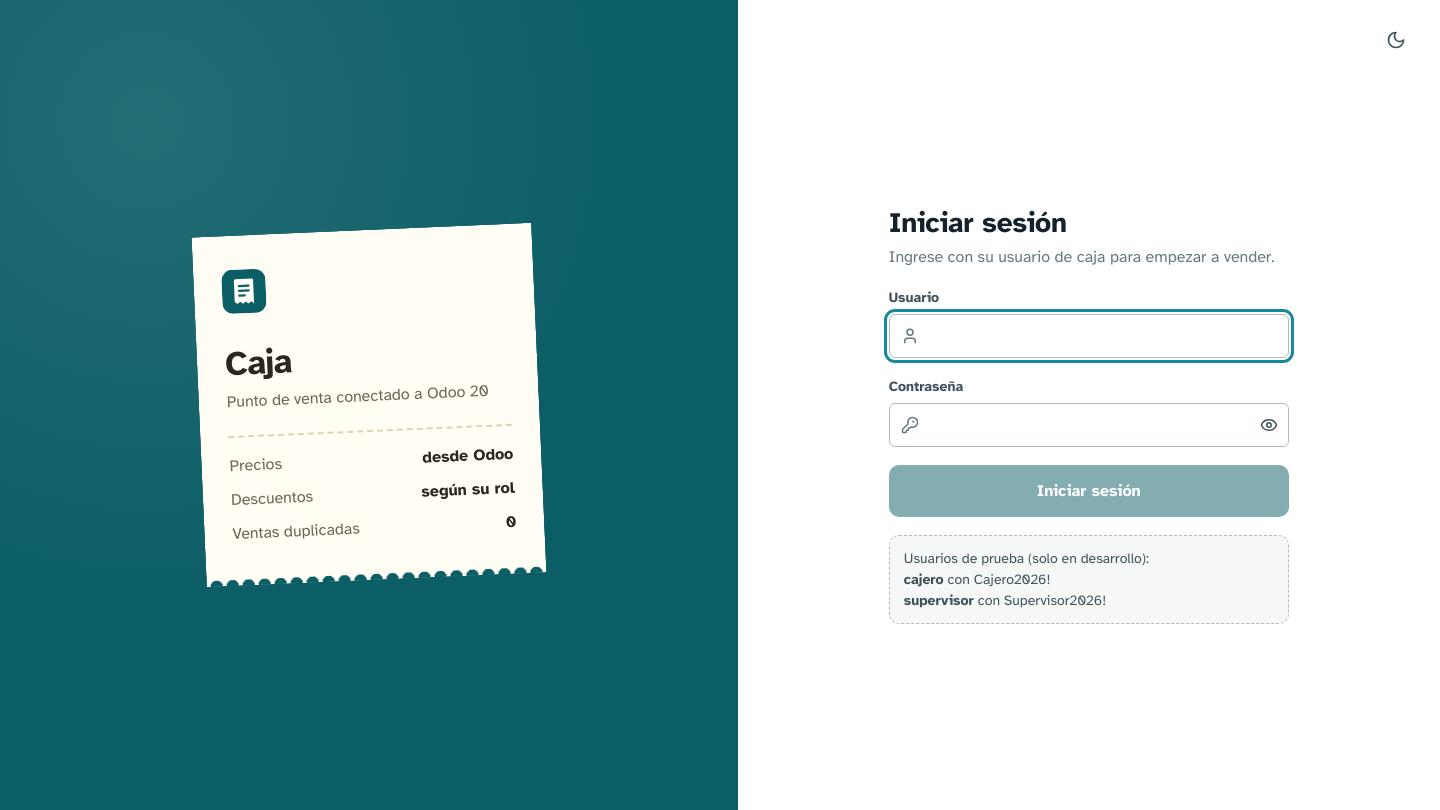
it: Inicio de sesión (P08) › si la API .NET no responde, muestra un error comprensible
In the field labelled "Usuario": point(1089, 336) 889,314 -> 1289,358, type "cajero"
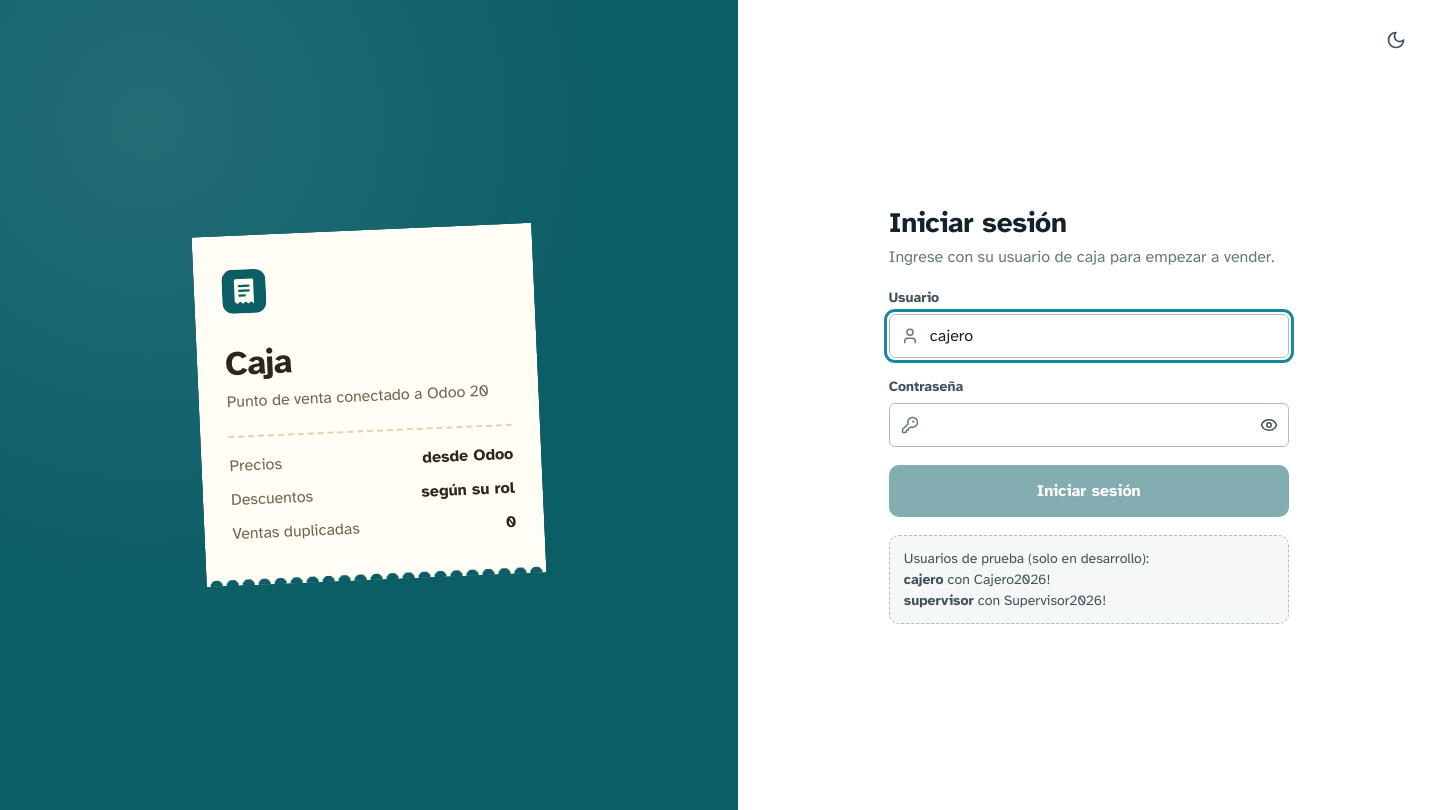
In the password field labelled "Contraseña": point(1089, 425) 889,403 -> 1289,447, type "Cajero2026!"
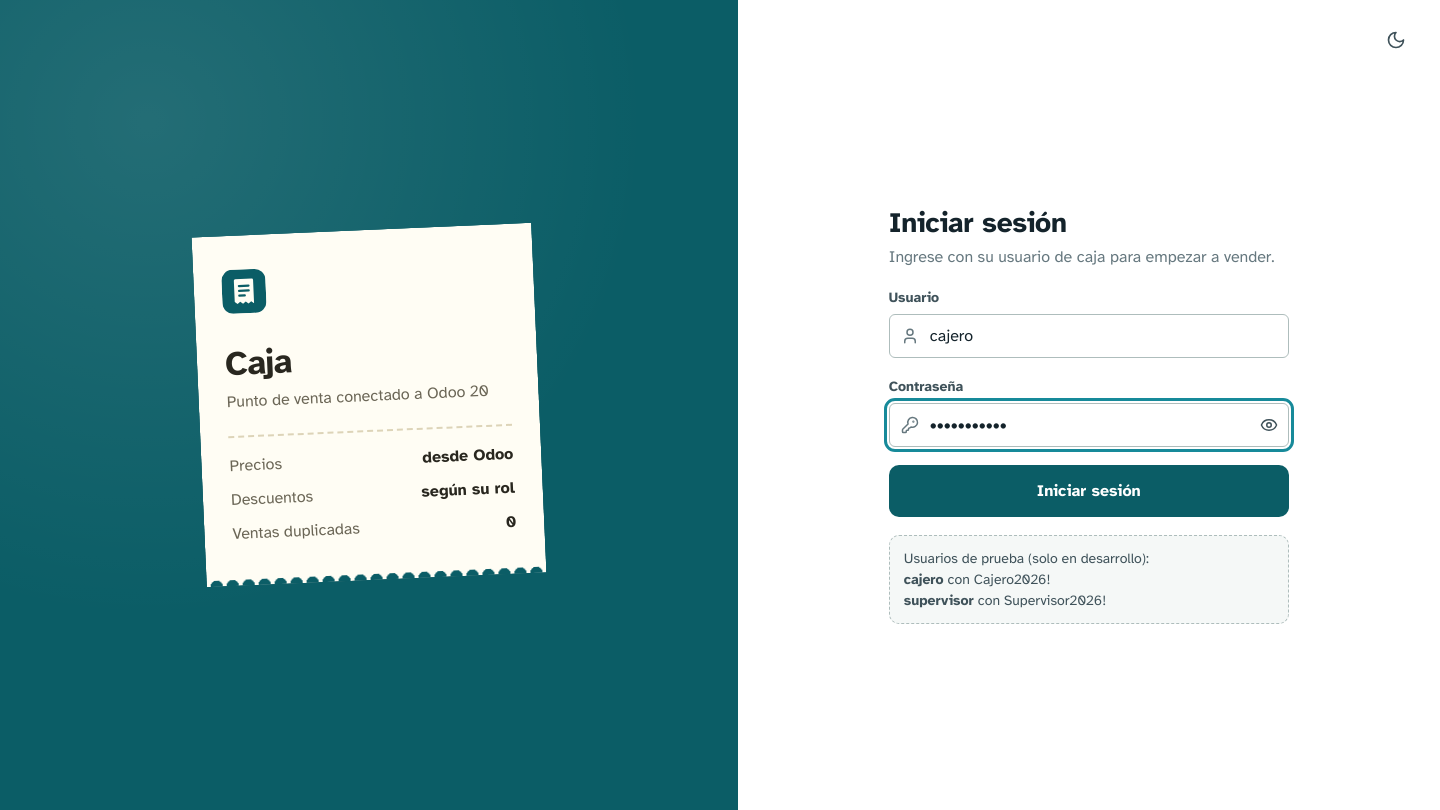
Click the button "Iniciar sesión": point(1089, 491) 889,465 -> 1289,517
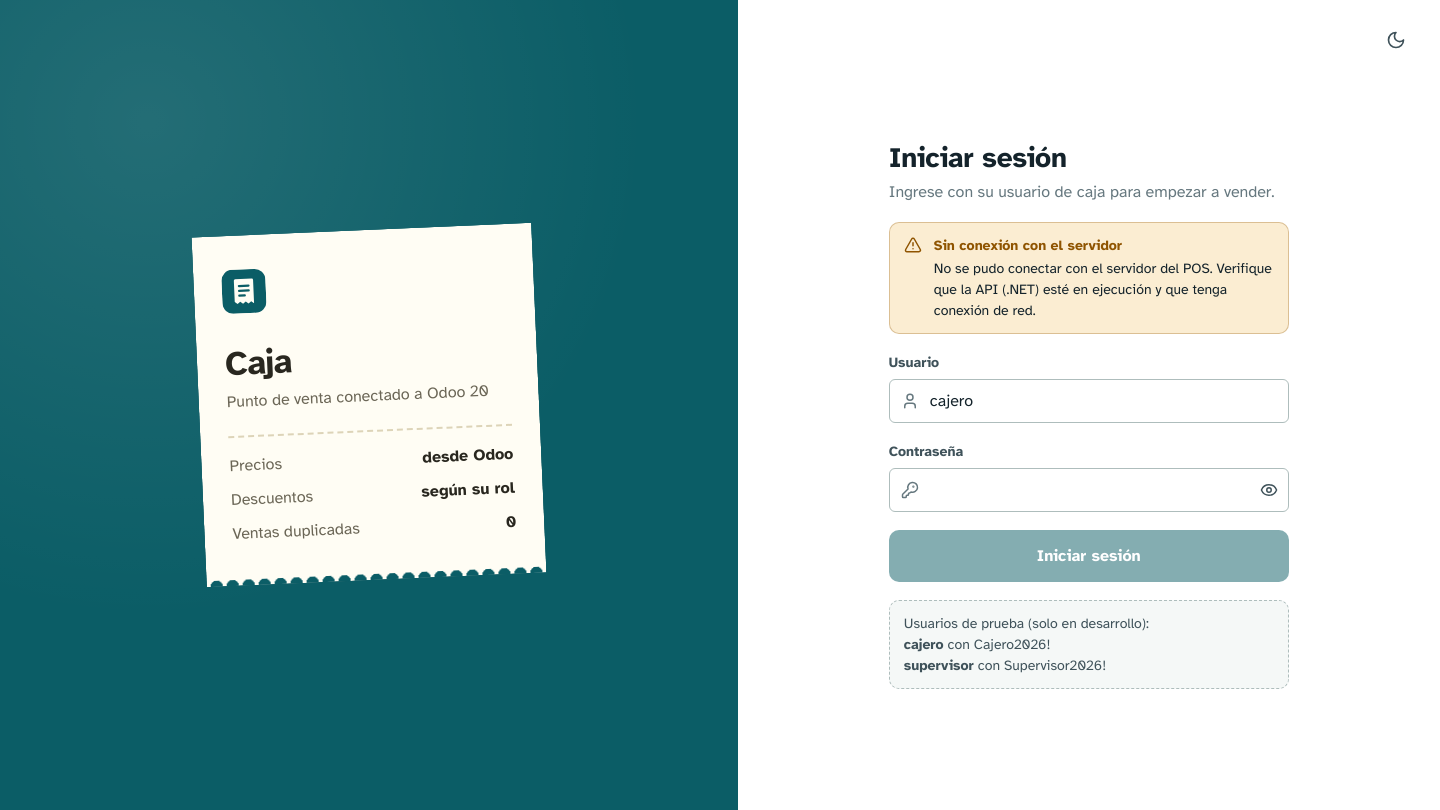
Result: the text "Sin conexión con el servidor" is shown at 934,237 -> 1122,254
Result: the text "Verifique que la API (.NET) esté en ejecución" is shown at 934,260 -> 1272,319
